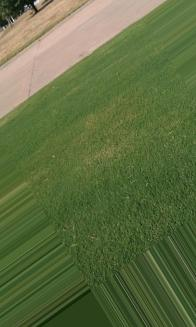patch: (1, 1, 93, 67)
